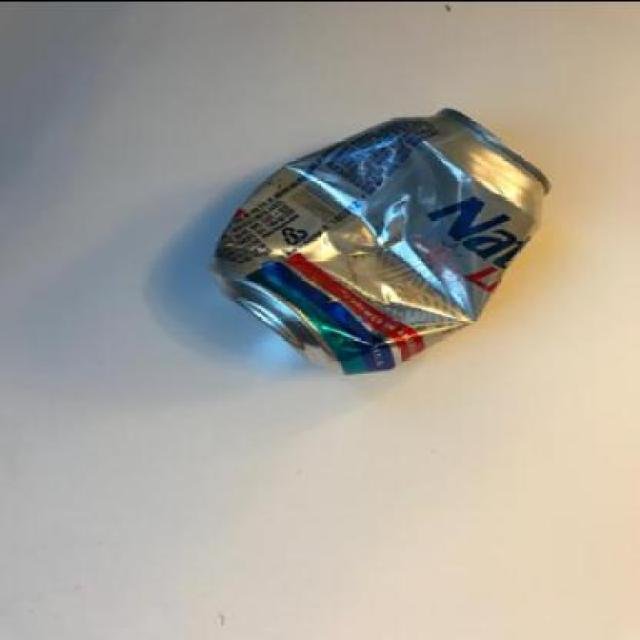METAL: (208, 109, 550, 376)
